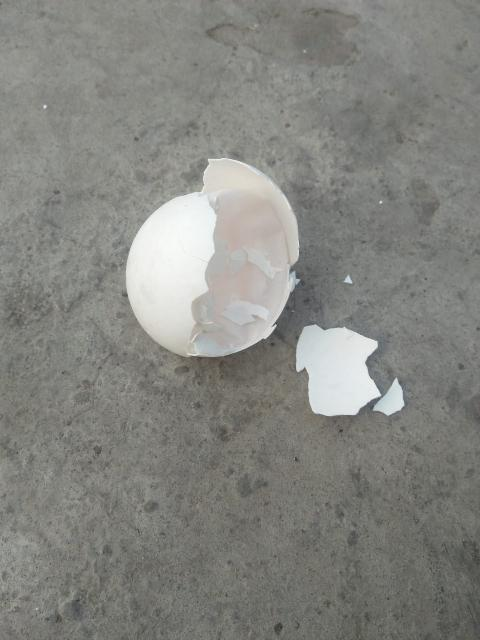Roto: (124, 157, 300, 358), (294, 323, 404, 417)
